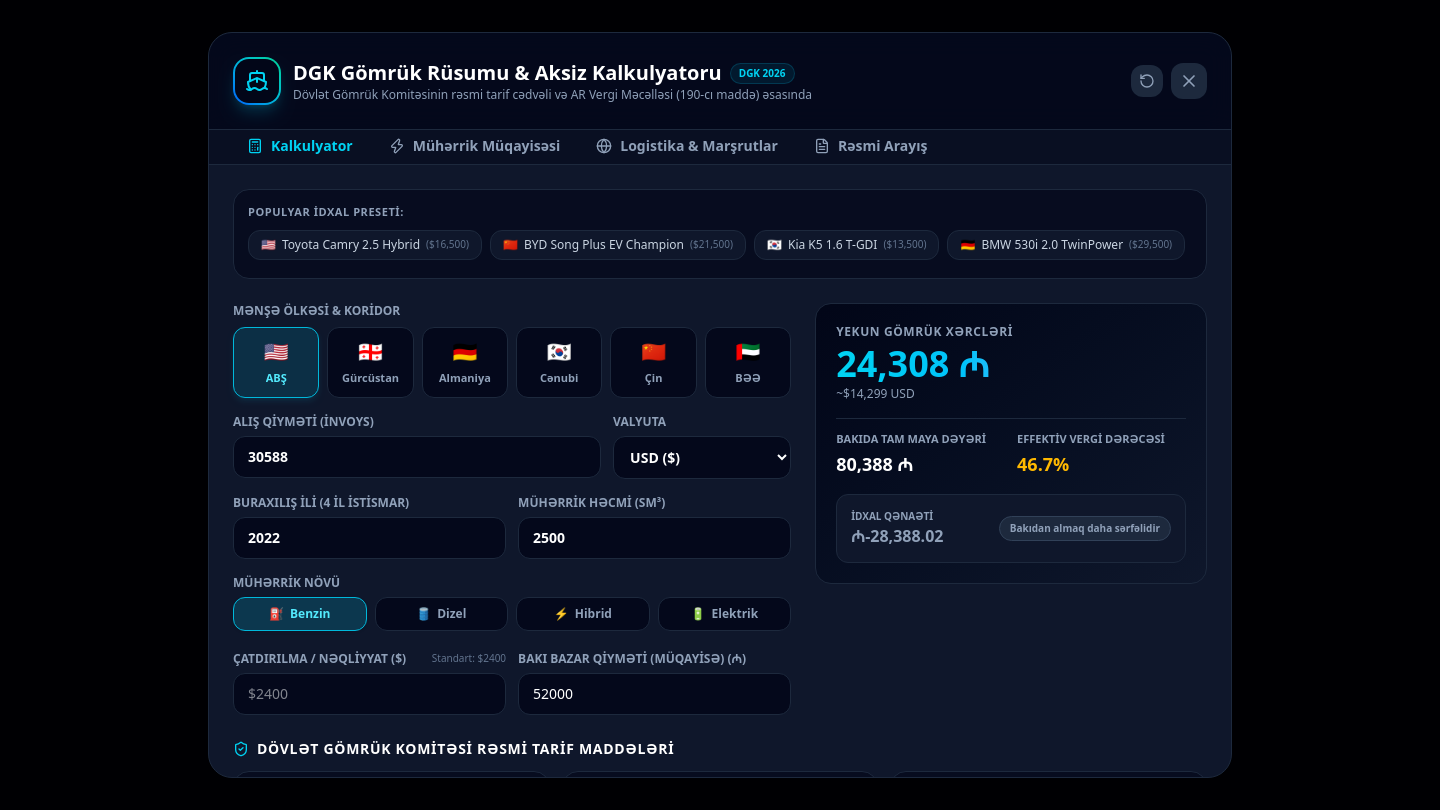
Test: CustomsCalculatorModal Component › updates calculations when changing fuel type to electric
Click electric button
Click the button "🔋 Elektrik". click: click(724, 614)
box: [658,597,791,631]
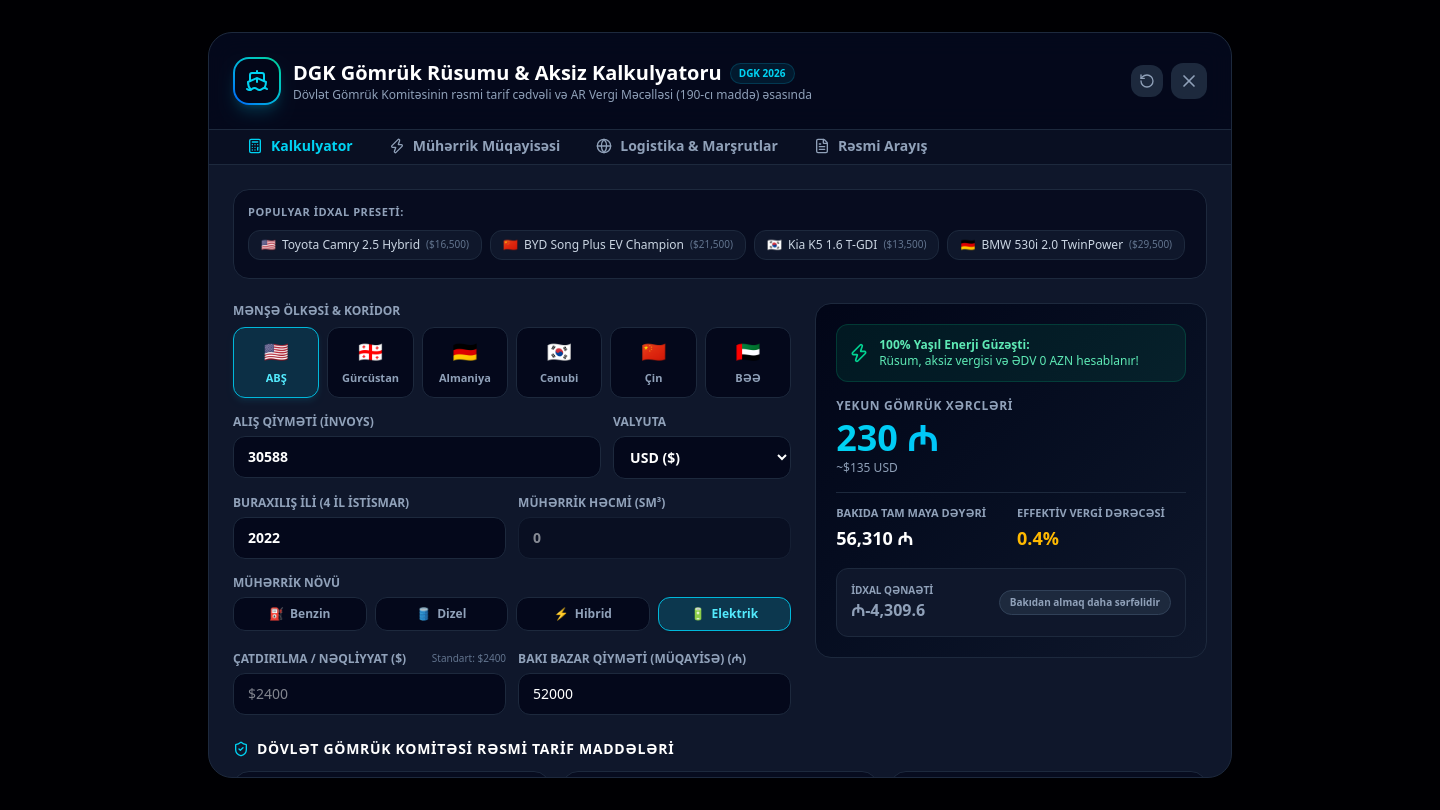
Check: the text "100% Yaşıl Enerji Güzəşti:" is shown, box [879,336,1030,353]
